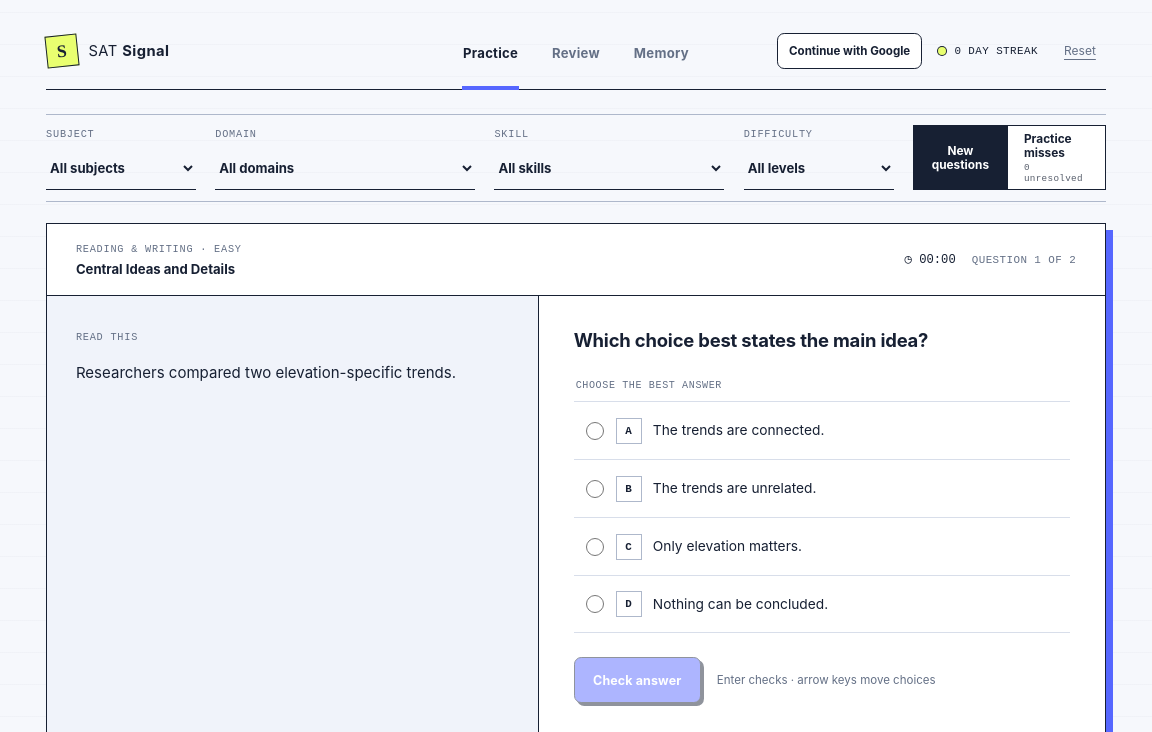
Test case: SAT practice app › uses cloud history to skip answered questions after sign-in
This screenshot has width=1152, height=732.
Expected: the heading "Which choice best states the main idea?" is shown, [574,329,928,351]
Click the button "Continue with Google": x=850, y=50 [777,32,922,68]
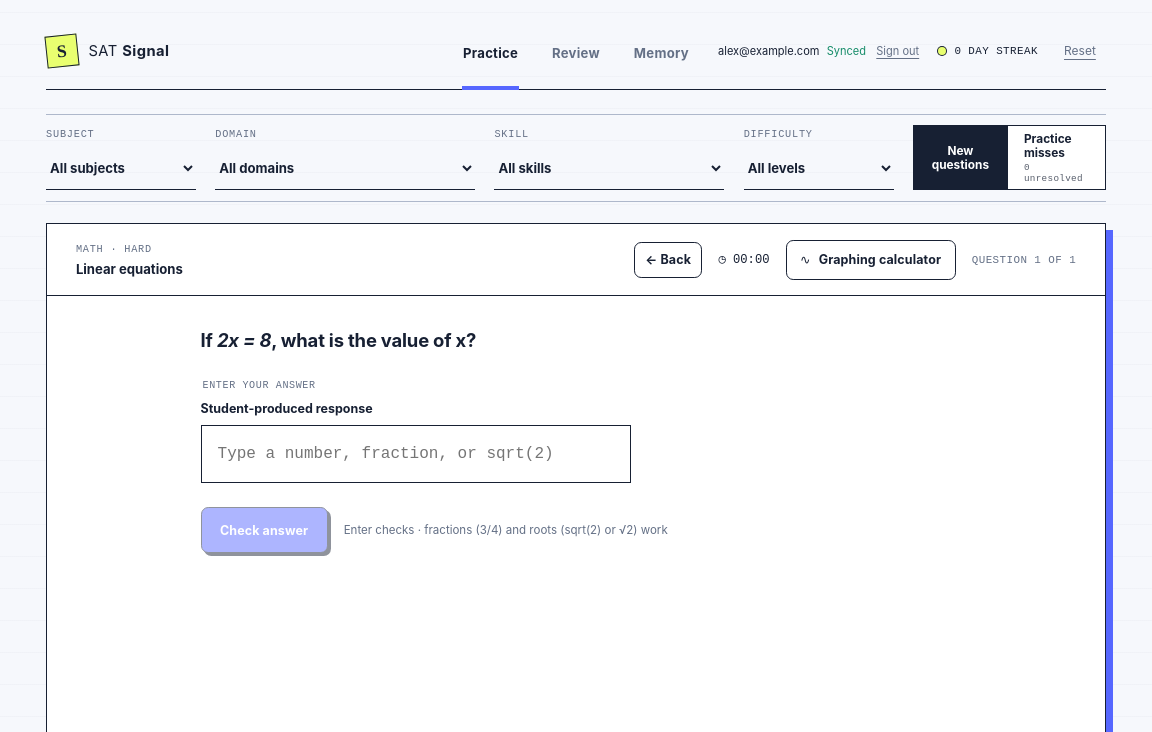
Result: the heading "If 2x = 8, what is the value of x?" is shown at [200,329,476,351]
Result: the text "Which choice best states" is gone
